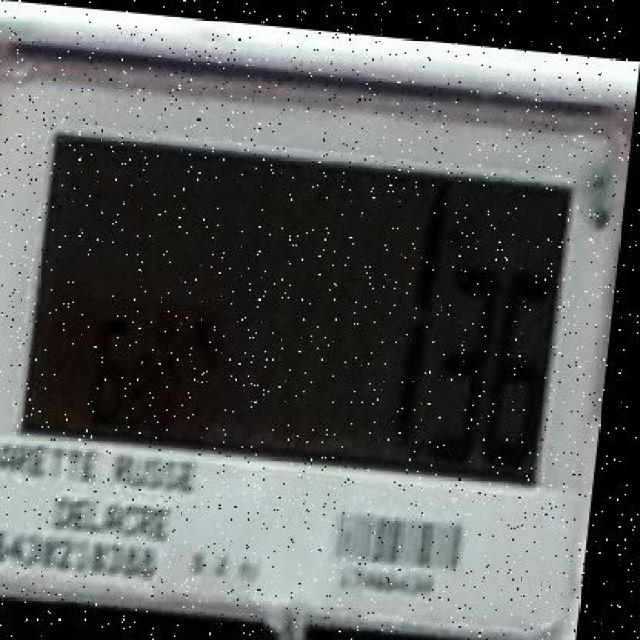display: (17, 129, 573, 490)
gauge: (0, 0, 640, 640)
